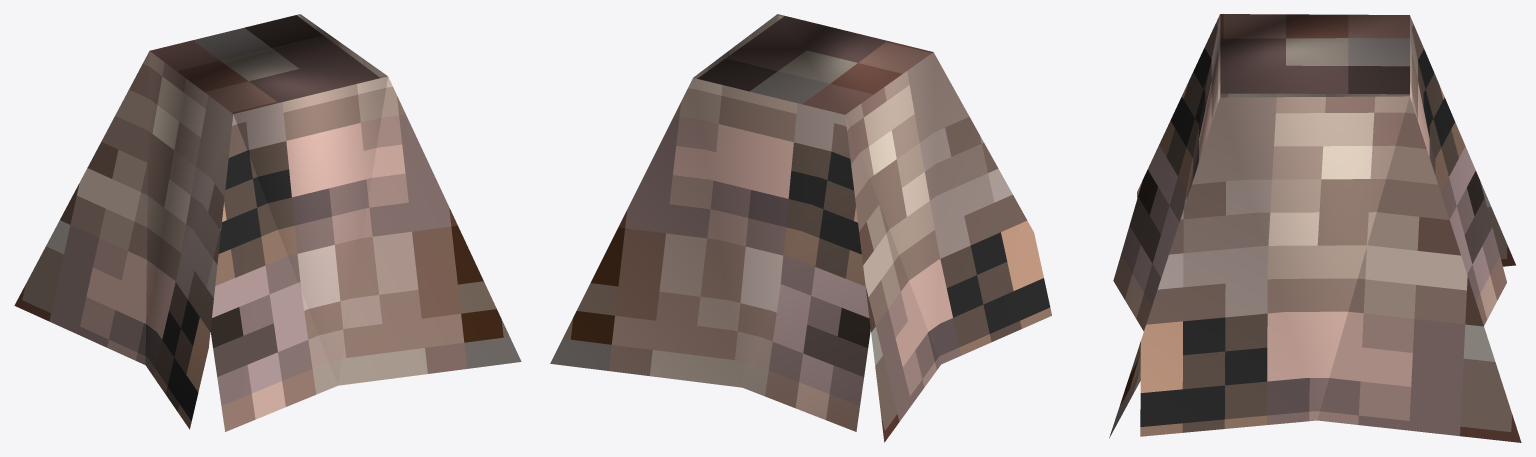
Rendered from Environment - Vegetation - Tree Oak Stump - PTStumpOak.glb.
The picture shows the model from 3 angles, left to right: view 1: azimuth 30°, elevation 25°; view 2: azimuth 150°, elevation 25°; view 3: azimuth 270°, elevation 25°; orthographic projection. The views are drawn at different scales.
Parts seen in each view (by area): view 1: PTSTUMPOAK; view 2: PTSTUMPOAK; view 3: PTSTUMPOAK.
Boxes of the visible parts, x1,y1,x2,y2 form: PTSTUMPOAK: (14, 14, 521, 431); PTSTUMPOAK: (550, 14, 1051, 442); PTSTUMPOAK: (1109, 14, 1521, 442).
Bounding box in the file's own units: 5.74 × 4.45 × 5.68.
1 material, 1 textured.
